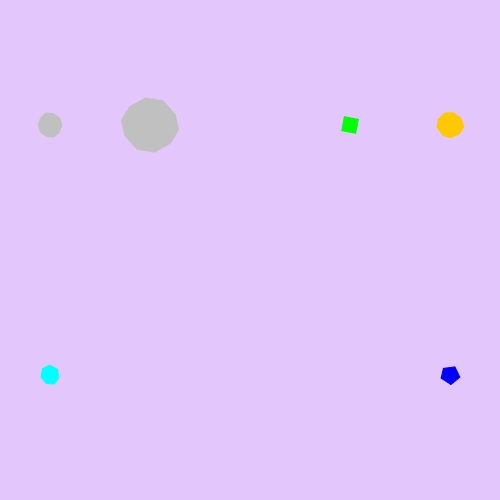decagon: (118, 95, 183, 155), (33, 109, 67, 141)
heptagon: (36, 361, 65, 389)
nonagon: (432, 108, 468, 142)
pentagon: (436, 361, 464, 389)
quadrilateral: (335, 110, 365, 140)
